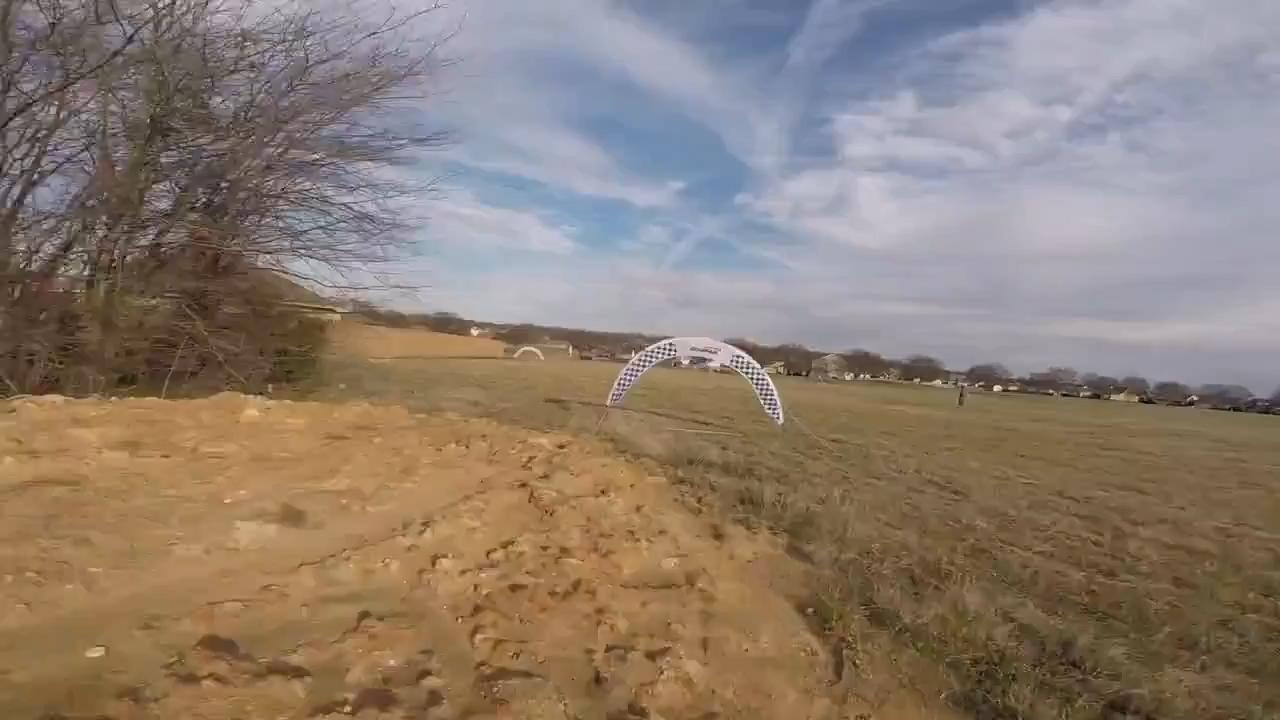gate: (603, 336, 784, 424)
